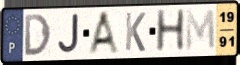A: (87, 10, 122, 56)
D: (23, 12, 52, 58)
H: (154, 7, 188, 55)
J: (57, 12, 80, 55)
K: (123, 11, 147, 53)
M: (184, 8, 217, 53)
